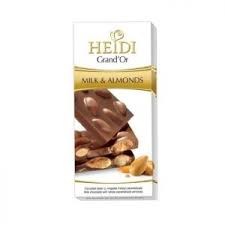Chocolate: (54, 10, 171, 197)
